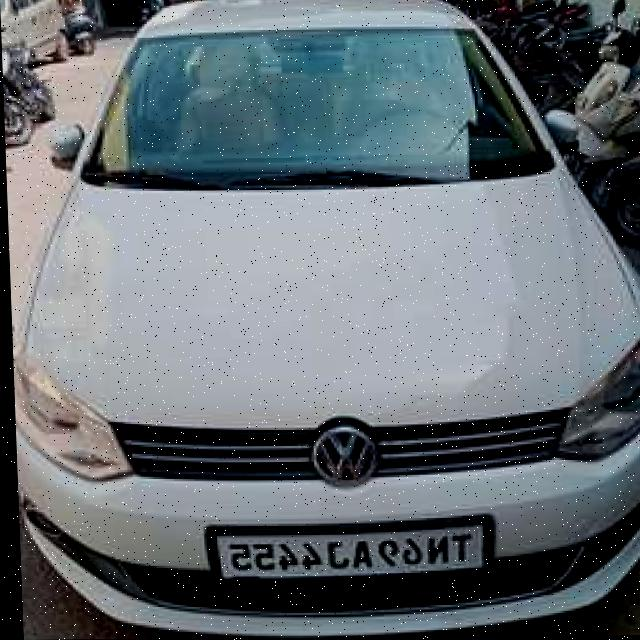plate: (205, 517, 492, 586)
